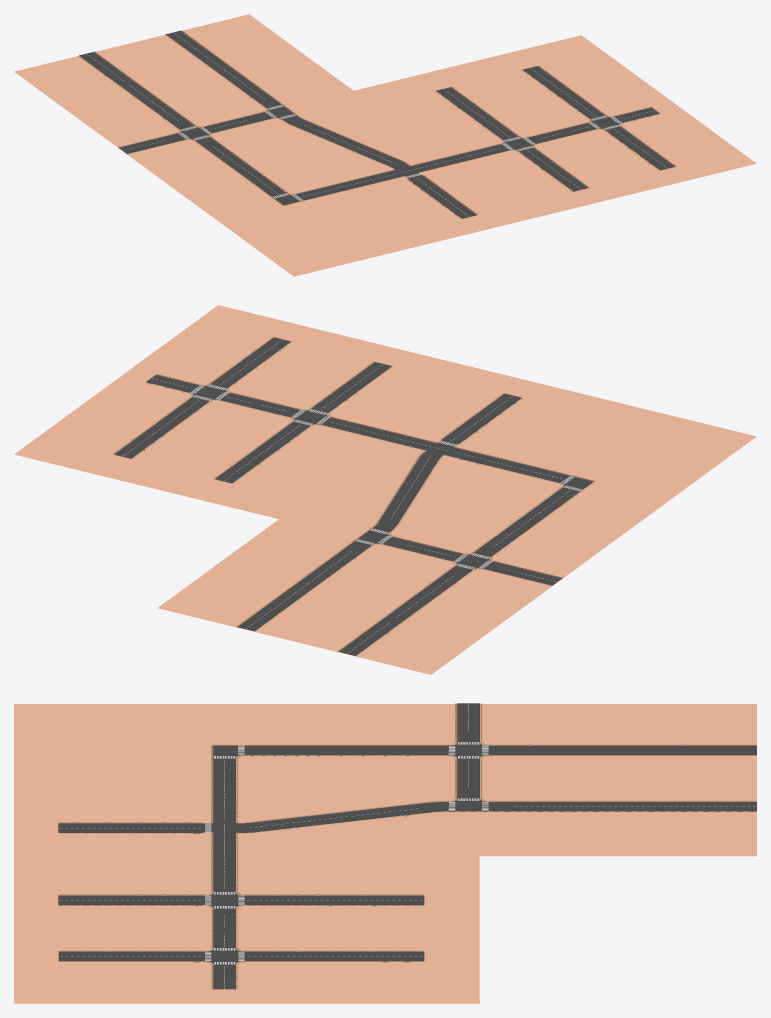
The model's file is Level 02.1.fbx.
The picture shows the model from 3 angles, top to bottom: view 1: azimuth 30°, elevation 25°; view 2: azimuth 150°, elevation 25°; view 3: azimuth 270°, elevation 25°; orthographic projection. The views are drawn at different scales.
Parts seen in each view (by area): view 1: Level2_Footpath, Level_2_Road; view 2: Level2_Footpath, Level_2_Road; view 3: Level2_Footpath, Level_2_Road.
Part boxes in pixels (left/top/right/bottom): Level2_Footpath: left=14, top=14, right=756, bottom=276; Level_2_Road: left=78, top=30, right=676, bottom=219; Level2_Footpath: left=14, top=305, right=756, bottom=674; Level_2_Road: left=112, top=337, right=595, bottom=656; Level2_Footpath: left=14, top=704, right=756, bottom=1003; Level_2_Road: left=58, top=703, right=756, bottom=989.
Size of the model in its own units: 320 by 1.2 by 335.
